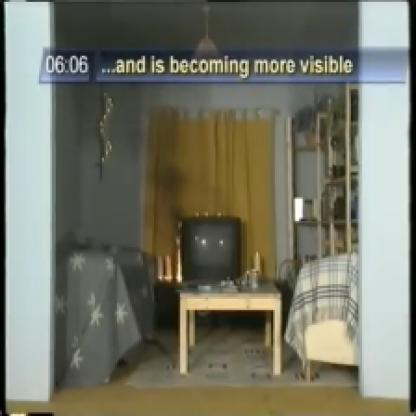fire: (162, 227, 198, 285)
